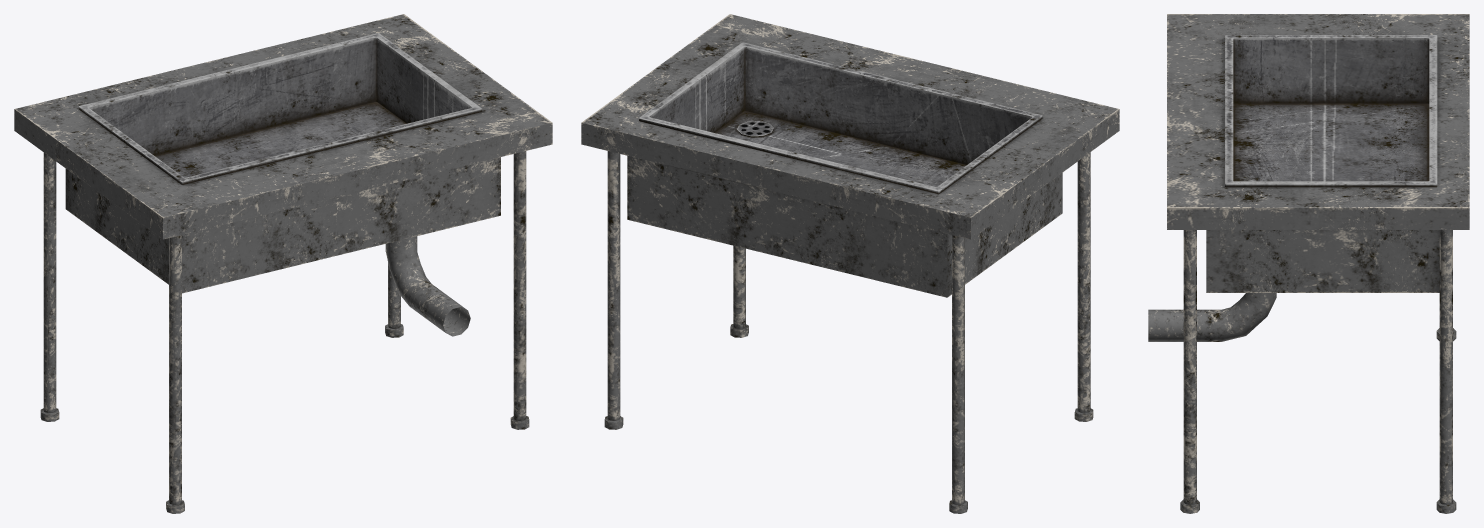
File: Sink_V1_AA.fbx
3 views of the same model, side by side, from view 1: azimuth 30°, elevation 25°; view 2: azimuth 150°, elevation 25°; view 3: azimuth 270°, elevation 25° (orthographic).
Parts seen in each view (by area): view 1: Sink_V1_AA; view 2: Sink_V1_AA; view 3: Sink_V1_AA.
Boxes of the visible parts, x1,y1,x2,y2 form: Sink_V1_AA: [14, 14, 552, 513]; Sink_V1_AA: [581, 14, 1119, 513]; Sink_V1_AA: [1148, 14, 1469, 513].
Size of the model in its own units: 1.17 by 0.8227 by 0.8906.
Materials: 1 (1 with a texture image).
